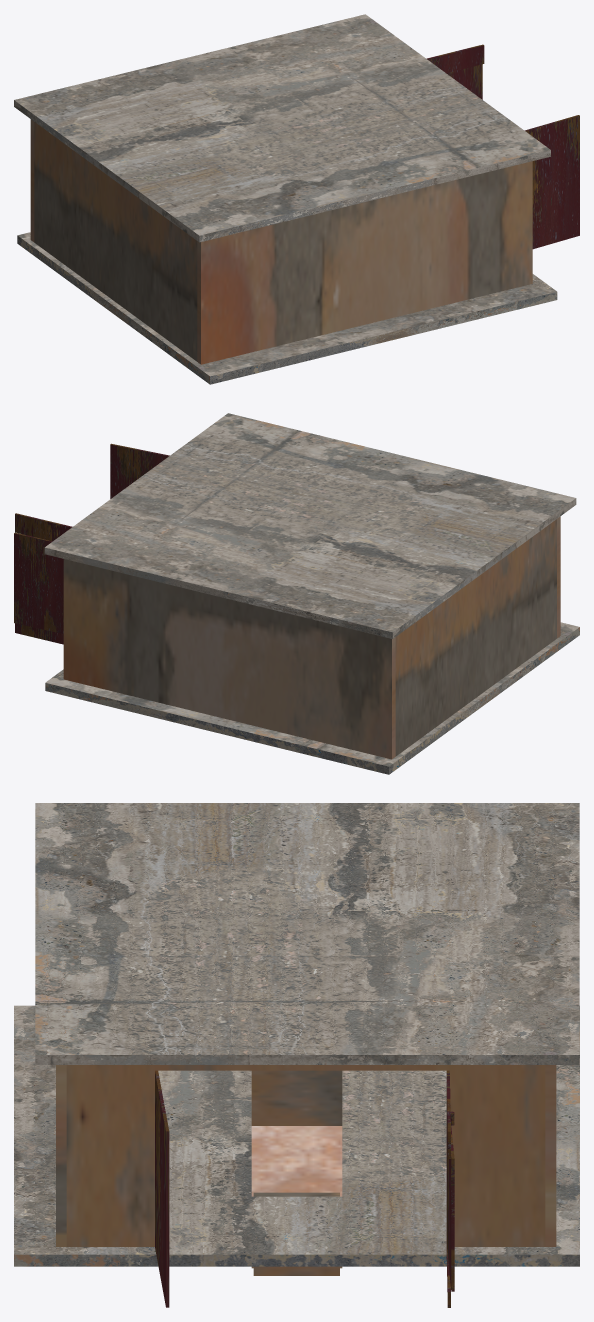
Rendered from Garage Inc.fbx.
3 renders of one model, top to bottom at view 1: azimuth 30°, elevation 25°; view 2: azimuth 150°, elevation 25°; view 3: azimuth 270°, elevation 25°, orthographic. The views are drawn at different scales.
Visible parts, largest first — view 1: Plane.001, Cube.004, Cube.001, Plane, Cube.005, Cube, Cube.006, Cube.002; view 2: Plane.001, Cube.002, Cube.001, Plane, Cube.006, Cube.005, Cube, Cube.004; view 3: Plane.001, Plane, Cube.003, Cube.005, Cube.002, Cube.004, Cube.007, Cube.006, Cube.
Boxes of the visible parts, x1,y1,x2,y2 form: Plane.001: (14,14,550,242); Cube.004: (197,161,532,364); Cube.001: (34,122,197,361); Plane: (17,232,557,384); Cube.005: (524,115,579,249); Cube: (426,44,484,73); Cube.006: (446,64,482,99); Cube.002: (30,119,34,242); Plane.001: (44,413,576,638); Cube.002: (63,559,395,759); Cube.001: (395,519,556,756); Plane: (45,622,579,774); Cube.006: (14,532,63,633); Cube.005: (110,443,169,498); Cube: (15,513,72,644); Cube.004: (557,516,560,638); Plane.001: (35,803,579,1064); Plane: (14,1005,579,1268); Cube.003: (66,1065,545,1246); Cube.005: (155,1070,169,1307); Cube.002: (545,1065,556,1246); Cube.004: (56,1065,66,1246); Cube.007: (253,1192,339,1275); Cube.006: (447,1124,454,1291); Cube: (446,1070,454,1307).
Size of what is drawn, in the model's own units: 1062 by 453 by 833.
